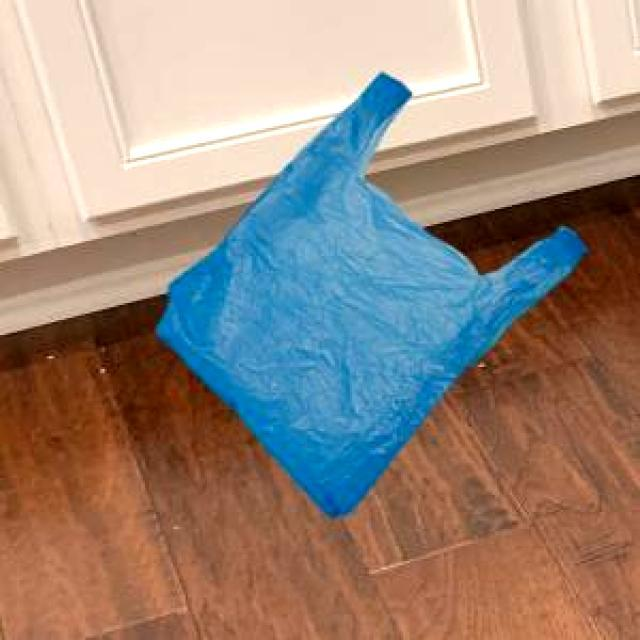Plastic_Bag: (152, 70, 584, 516)
